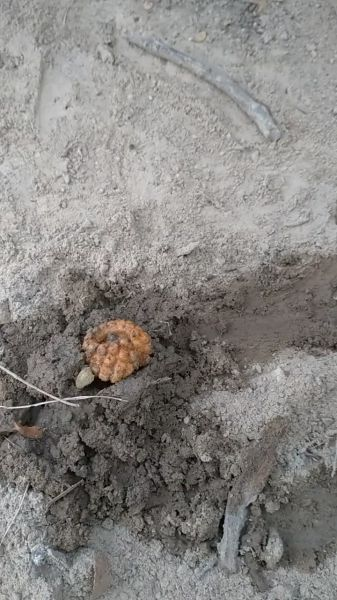eggs: (77, 316, 160, 384)
